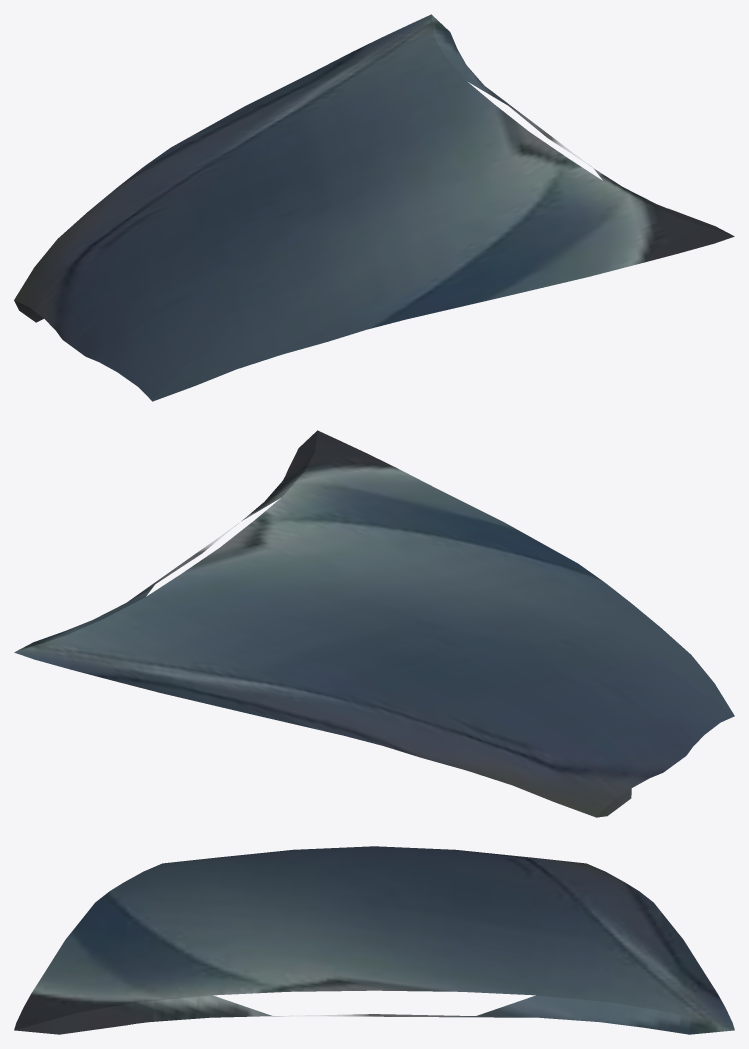
Rendered from cofre.fbx.
The picture shows the model from 3 angles, top to bottom: view 1: azimuth 30°, elevation 25°; view 2: azimuth 150°, elevation 25°; view 3: azimuth 270°, elevation 25°; orthographic projection. The views are drawn at different scales.
Parts seen in each view (by area): view 1: car.006; view 2: car.006; view 3: car.006.
Boxes of the visible parts, x1=… form: car.006: x1=14, y1=14, x2=734, y2=401; car.006: x1=14, y1=430, x2=734, y2=817; car.006: x1=14, y1=846, x2=734, y2=1034.
Bounding box in the file's own units: 14835 × 3184 × 15314.
